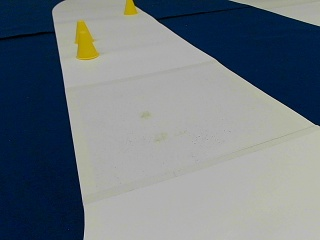cone: (74, 21, 98, 60), (123, 0, 136, 15)
